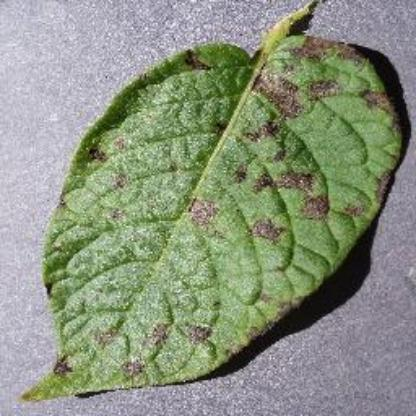Early-Blight: (28, 16, 414, 400)
